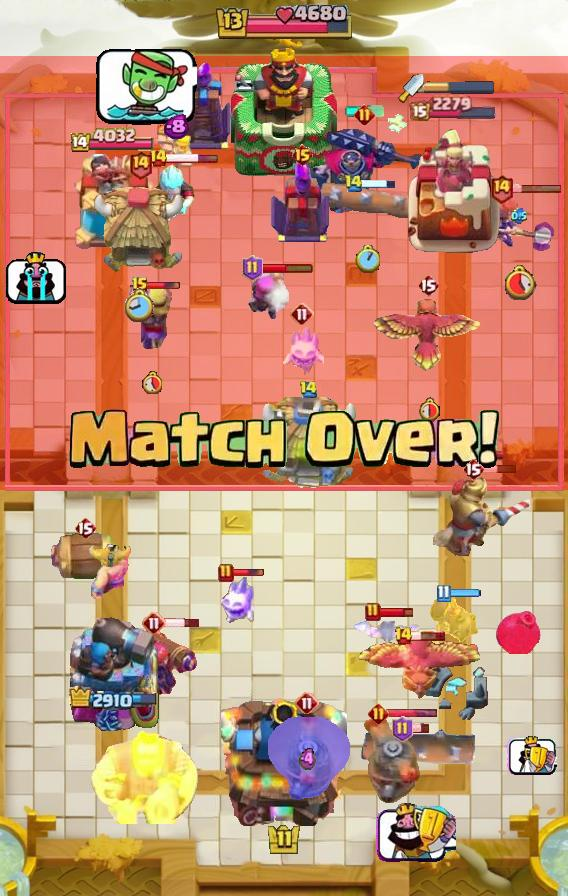archer: (157, 124, 195, 173)
arrows: (127, 285, 177, 351)
baby-dragon: (495, 609, 541, 654)
bar: (403, 124, 503, 256)
barbarian: (352, 617, 422, 647)
clock: (213, 5, 355, 43)
dark-prince: (262, 717, 352, 803), (349, 719, 439, 805)
electro-spirit: (163, 114, 189, 140), (299, 747, 316, 772), (511, 208, 527, 224)
elixir: (502, 264, 538, 300), (125, 288, 155, 324), (355, 245, 380, 273), (416, 397, 439, 422), (142, 370, 162, 393)
emote: (261, 262, 314, 274), (386, 708, 438, 720), (165, 152, 219, 163), (511, 182, 563, 193), (378, 606, 414, 619), (164, 617, 201, 629), (410, 630, 446, 642), (360, 178, 396, 189), (483, 464, 518, 474), (147, 281, 181, 291), (231, 568, 265, 578), (448, 588, 482, 598), (411, 722, 430, 734)
giant-skeleton: (90, 730, 200, 824)
goblin-ball: (428, 596, 482, 646)
goblin-giant: (87, 543, 131, 599)
golden-knight: (372, 297, 484, 375)
ice-spirit: (343, 105, 385, 117)
ice-spirit-evolution-symbol: (270, 157, 334, 245), (174, 59, 234, 151)
inferno-tower: (305, 125, 423, 213)
king-tower: (221, 690, 347, 826), (231, 43, 337, 181)
king-tower-bar: (424, 80, 496, 94)
mega-minion: (142, 623, 200, 697)
minion: (357, 726, 479, 770), (316, 181, 418, 229)
mirror: (280, 322, 324, 376), (217, 574, 257, 626)
mortar: (149, 161, 197, 225)
mother-witch: (355, 632, 483, 704)
prince: (257, 397, 359, 493), (93, 185, 187, 275)
queen-tower: (66, 154, 162, 256)
ram-rider: (432, 473, 538, 557)
selected: (68, 686, 159, 714), (71, 127, 157, 155), (410, 95, 499, 122)
skeleton: (95, 44, 197, 126), (375, 802, 456, 864), (5, 248, 67, 305), (507, 736, 558, 776)
tesla-evolution: (483, 189, 555, 252)
text: (128, 149, 153, 180), (490, 172, 515, 203), (290, 302, 314, 326), (142, 611, 166, 635), (295, 691, 319, 715), (241, 255, 263, 281), (290, 143, 313, 167), (392, 716, 413, 742), (417, 273, 439, 297), (462, 457, 484, 481), (74, 516, 96, 540), (353, 103, 375, 125), (367, 703, 389, 725), (148, 148, 168, 168), (395, 626, 414, 646), (131, 276, 149, 296), (344, 175, 363, 193), (298, 381, 317, 399), (218, 563, 234, 583), (365, 602, 381, 622), (437, 584, 451, 603)
the-log: (47, 533, 123, 583)
tombstone: (248, 269, 288, 323)
tower-bar: (68, 611, 160, 731)
